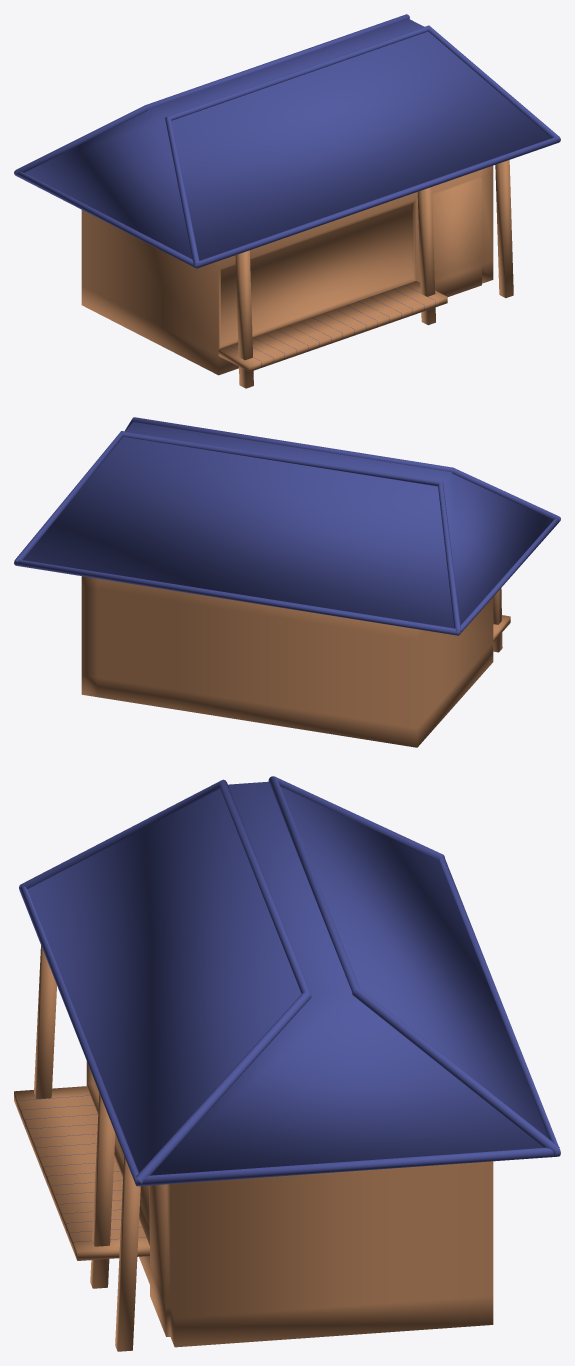
Rendered from 040_古民家2002.glb.
3 views of the same model, one above another, from view 1: azimuth 30°, elevation 25°; view 2: azimuth 150°, elevation 25°; view 3: azimuth 270°, elevation 25° (orthographic). The views are drawn at different scales.
Visible parts, largest first — view 1: 立方体034_3, 立方体034, 立方体034_1, 立方体034_2, 立方体034_4; view 2: 立方体034_3, 立方体034, 立方体034_2; view 3: 立方体034_3, 立方体034, 立方体034_2, 立方体034_1, 立方体034_4.
Part boxes in pixels (x1,y1,x2,y2): 立方体034_3: (14,14,560,268); 立方体034: (81,166,493,375); 立方体034_1: (221,177,481,343); 立方体034_2: (235,160,513,388); 立方体034_4: (230,285,435,367); 立方体034_3: (14,417,560,635); 立方体034: (14,560,510,747); 立方体034_2: (493,588,502,652); 立方体034_3: (19,776,560,1186); 立方体034: (14,1061,493,1347); 立方体034_2: (34,945,140,1351); 立方体034_1: (93,1077,170,1336); 立方体034_4: (19,1095,145,1242).
Size of the model in its own units: 4.84 by 2.38 by 3.43.
